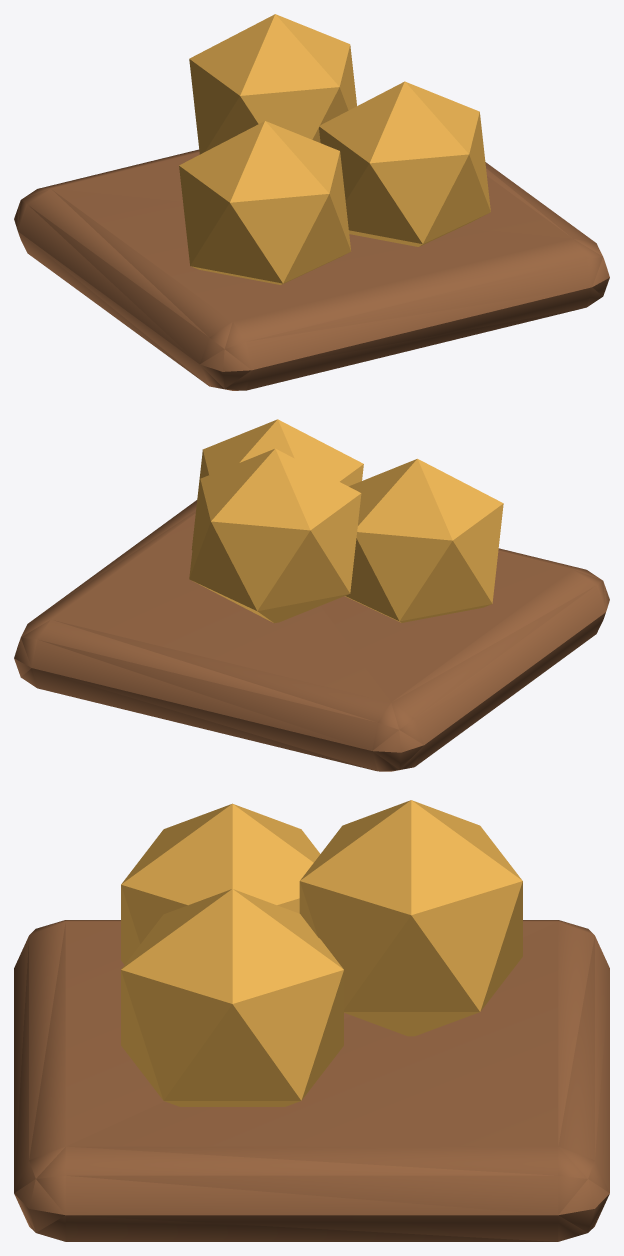
Rendered from DW_AmberPit.fbx.
3 renders of one model, top to bottom at view 1: azimuth 30°, elevation 25°; view 2: azimuth 150°, elevation 25°; view 3: azimuth 270°, elevation 25°, orthographic. The views are drawn at different scales.
Visible parts, largest first — view 1: AmberPit; view 2: AmberPit; view 3: AmberPit.
Part boxes in pixels (x1,y1,x2,y2): AmberPit: (14, 14, 609, 390); AmberPit: (14, 419, 609, 771); AmberPit: (14, 800, 609, 1241).
Size of the model in its own units: 1.6 by 0.91 by 1.5.
